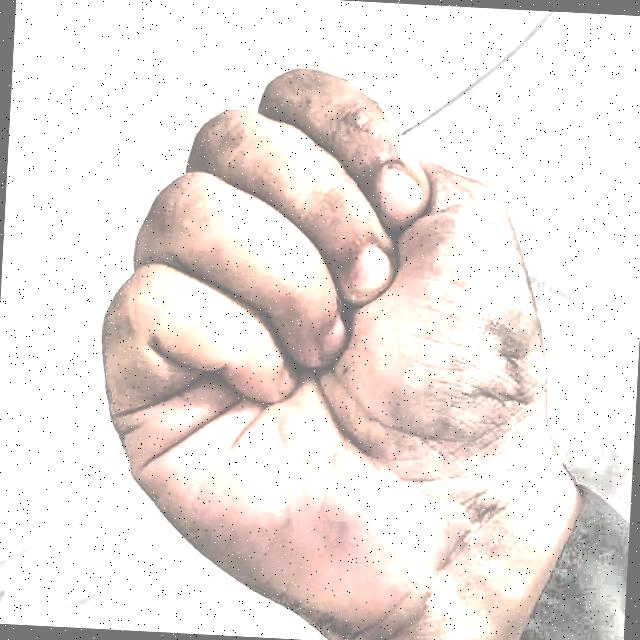To: (56, 17, 596, 638)
